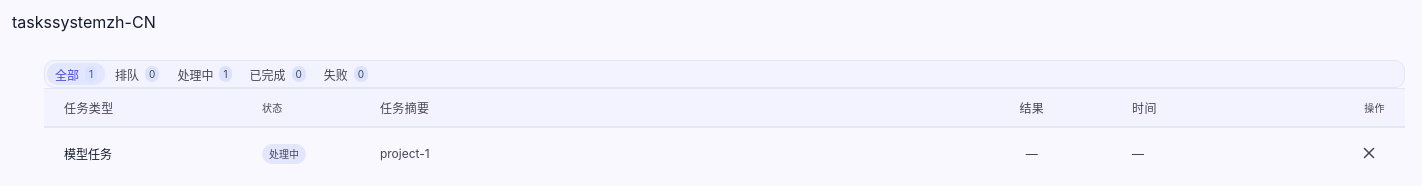
Test case: lets a running task be stopped through the desktop bridge
Expected: the button "处理中 1" is shown, [169,63,240,85]
What coordinates should you click on to do the following:
click the button named "停止"
I would click on:
 (1369, 153)
Its box is [1353,137,1385,169].
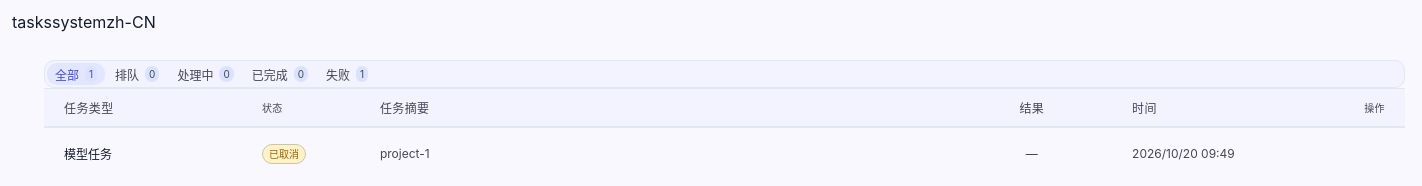
Result: the text "已取消" is shown at [262,144,306,164]
